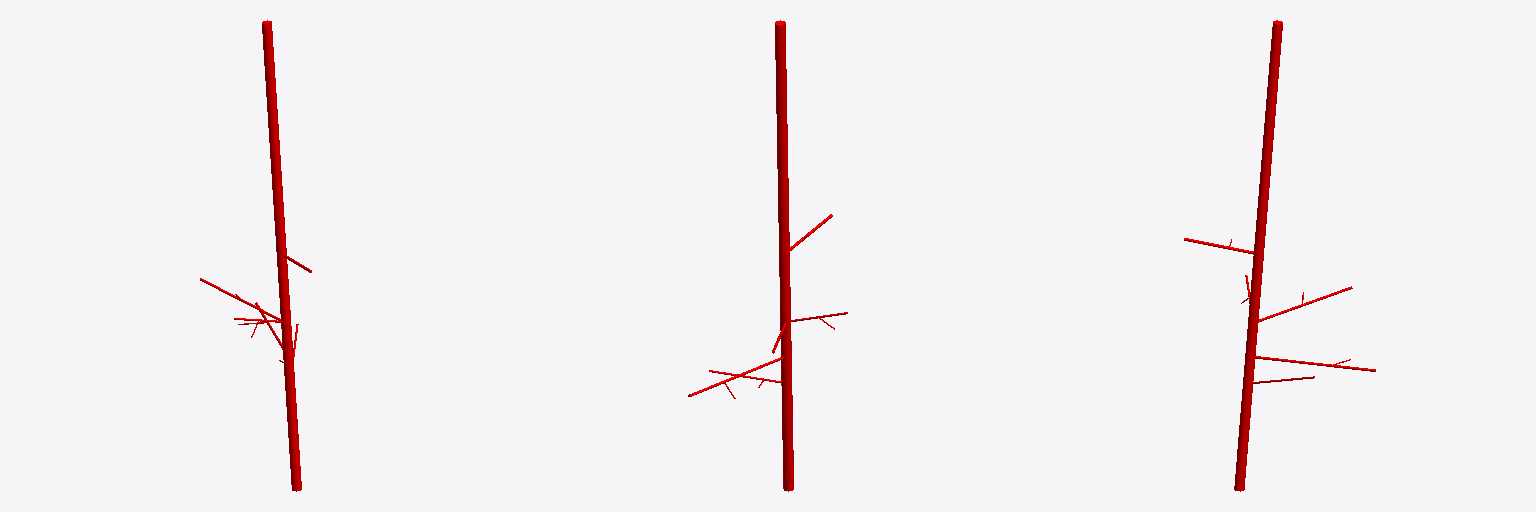
robot.urdf — tree_90.urdf:
<?xml version='1.0' encoding='UTF-8'?>
<robot name="tree_90.urdf">
  <link name="branch_0">
    <inertial>
      <origin xyz="0.0 0.0 0.0" rpy="0.0 -0.0 0.0"/>
      <mass value="0.1"/>
      <inertia ixx="0.001" ixy="0.0" ixz="0.0" iyy="0.001" iyz="0.0" izz="0.001"/>
    </inertial>
    <visual name="branch_0_visual">
      <geometry>
        <cylinder radius="0.07705784373232848" length="7.617566945547848"/>
      </geometry>
      <material name="semantic_material"/>
      <origin xyz="-0.09592882409770756 0.2882803042443073 3.796646371387232" rpy="6.938893903907228e-18 0.07985364420203571 1.892032885081165"/>
    </visual>
    <collision name="branch_0_collision">
      <geometry>
        <cylinder radius="0.07705784373232848" length="7.617566945547848"/>
      </geometry>
      <origin xyz="-0.09592882409770756 0.2882803042443073 3.796646371387232" rpy="6.938893903907228e-18 0.07985364420203571 1.892032885081165"/>
    </collision>
  </link>
  <link name="branch_1">
    <inertial>
      <origin xyz="0.0 0.0 0.0" rpy="0.0 -0.0 0.0"/>
      <mass value="0.1"/>
      <inertia ixx="0.001" ixy="0.0" ixz="0.0" iyy="0.001" iyz="0.0" izz="0.001"/>
    </inertial>
    <visual name="branch_1_visual">
      <geometry>
        <cylinder radius="0.016011054767605396" length="1.0091474311600492"/>
      </geometry>
      <material name="semantic_material"/>
      <origin xyz="0.0 0.0 0.0" rpy="0.0 -0.0 0.0"/>
    </visual>
    <collision name="branch_1_collision">
      <geometry>
        <cylinder radius="0.016011054767605396" length="1.0091474311600492"/>
      </geometry>
      <origin xyz="0.0 0.0 0.0" rpy="0.0 -0.0 0.0"/>
    </collision>
  </link>
  <link name="branch_2">
    <inertial>
      <origin xyz="0.0 0.0 0.0" rpy="0.0 -0.0 0.0"/>
      <mass value="0.1"/>
      <inertia ixx="0.001" ixy="0.0" ixz="0.0" iyy="0.001" iyz="0.0" izz="0.001"/>
    </inertial>
    <visual name="branch_2_visual">
      <geometry>
        <cylinder radius="0.01" length="0.29990771913010134"/>
      </geometry>
      <material name="semantic_material"/>
      <origin xyz="0.0 0.0 0.0" rpy="0.0 -0.0 0.0"/>
    </visual>
    <collision name="branch_2_collision">
      <geometry>
        <cylinder radius="0.01" length="0.29990771913010134"/>
      </geometry>
      <origin xyz="0.0 0.0 0.0" rpy="0.0 -0.0 0.0"/>
    </collision>
  </link>
  <link name="branch_3">
    <inertial>
      <origin xyz="0.0 0.0 0.0" rpy="0.0 -0.0 0.0"/>
      <mass value="0.1"/>
      <inertia ixx="0.001" ixy="0.0" ixz="0.0" iyy="0.001" iyz="0.0" izz="0.001"/>
    </inertial>
    <visual name="branch_3_visual">
      <geometry>
        <cylinder radius="0.02303562937007963" length="1.134028168131635"/>
      </geometry>
      <material name="semantic_material"/>
      <origin xyz="0.0 0.0 0.0" rpy="0.0 -0.0 0.0"/>
    </visual>
    <collision name="branch_3_collision">
      <geometry>
        <cylinder radius="0.02303562937007963" length="1.134028168131635"/>
      </geometry>
      <origin xyz="0.0 0.0 0.0" rpy="0.0 -0.0 0.0"/>
    </collision>
  </link>
  <link name="branch_4">
    <inertial>
      <origin xyz="0.0 0.0 0.0" rpy="0.0 -0.0 0.0"/>
      <mass value="0.1"/>
      <inertia ixx="0.001" ixy="0.0" ixz="0.0" iyy="0.001" iyz="0.0" izz="0.001"/>
    </inertial>
    <visual name="branch_4_visual">
      <geometry>
        <cylinder radius="0.01" length="0.14504044287743303"/>
      </geometry>
      <material name="semantic_material"/>
      <origin xyz="0.0 0.0 0.0" rpy="0.0 -0.0 0.0"/>
    </visual>
    <collision name="branch_4_collision">
      <geometry>
        <cylinder radius="0.01" length="0.14504044287743303"/>
      </geometry>
      <origin xyz="0.0 0.0 0.0" rpy="0.0 -0.0 0.0"/>
    </collision>
  </link>
  <link name="branch_5">
    <inertial>
      <origin xyz="0.0 0.0 0.0" rpy="0.0 -0.0 0.0"/>
      <mass value="0.1"/>
      <inertia ixx="0.001" ixy="0.0" ixz="0.0" iyy="0.001" iyz="0.0" izz="0.001"/>
    </inertial>
    <visual name="branch_5_visual">
      <geometry>
        <cylinder radius="0.015600764764193639" length="1.2830101981991109"/>
      </geometry>
      <material name="semantic_material"/>
      <origin xyz="0.0 0.0 0.0" rpy="0.0 -0.0 0.0"/>
    </visual>
    <collision name="branch_5_collision">
      <geometry>
        <cylinder radius="0.015600764764193639" length="1.2830101981991109"/>
      </geometry>
      <origin xyz="0.0 0.0 0.0" rpy="0.0 -0.0 0.0"/>
    </collision>
  </link>
  <link name="branch_6">
    <inertial>
      <origin xyz="0.0 0.0 0.0" rpy="0.0 -0.0 0.0"/>
      <mass value="0.1"/>
      <inertia ixx="0.001" ixy="0.0" ixz="0.0" iyy="0.001" iyz="0.0" izz="0.001"/>
    </inertial>
    <visual name="branch_6_visual">
      <geometry>
        <cylinder radius="0.01" length="0.2829312294041939"/>
      </geometry>
      <material name="semantic_material"/>
      <origin xyz="0.0 0.0 0.0" rpy="0.0 -0.0 0.0"/>
    </visual>
    <collision name="branch_6_collision">
      <geometry>
        <cylinder radius="0.01" length="0.2829312294041939"/>
      </geometry>
      <origin xyz="0.0 0.0 0.0" rpy="0.0 -0.0 0.0"/>
    </collision>
  </link>
  <link name="branch_7">
    <inertial>
      <origin xyz="0.0 0.0 0.0" rpy="0.0 -0.0 0.0"/>
      <mass value="0.1"/>
      <inertia ixx="0.001" ixy="0.0" ixz="0.0" iyy="0.001" iyz="0.0" izz="0.001"/>
    </inertial>
    <visual name="branch_7_visual">
      <geometry>
        <cylinder radius="0.02019765870299816" length="1.9382847404582078"/>
      </geometry>
      <material name="semantic_material"/>
      <origin xyz="0.0 0.0 0.0" rpy="0.0 -0.0 0.0"/>
    </visual>
    <collision name="branch_7_collision">
      <geometry>
        <cylinder radius="0.02019765870299816" length="1.9382847404582078"/>
      </geometry>
      <origin xyz="0.0 0.0 0.0" rpy="0.0 -0.0 0.0"/>
    </collision>
  </link>
  <link name="branch_8">
    <inertial>
      <origin xyz="0.0 0.0 0.0" rpy="0.0 -0.0 0.0"/>
      <mass value="0.1"/>
      <inertia ixx="0.001" ixy="0.0" ixz="0.0" iyy="0.001" iyz="0.0" izz="0.001"/>
    </inertial>
    <visual name="branch_8_visual">
      <geometry>
        <cylinder radius="0.01" length="0.4631951591894071"/>
      </geometry>
      <material name="semantic_material"/>
      <origin xyz="0.0 0.0 0.0" rpy="0.0 -0.0 0.0"/>
    </visual>
    <collision name="branch_8_collision">
      <geometry>
        <cylinder radius="0.01" length="0.4631951591894071"/>
      </geometry>
      <origin xyz="0.0 0.0 0.0" rpy="0.0 -0.0 0.0"/>
    </collision>
  </link>
  <link name="branch_9">
    <inertial>
      <origin xyz="0.0 0.0 0.0" rpy="0.0 -0.0 0.0"/>
      <mass value="0.1"/>
      <inertia ixx="0.001" ixy="0.0" ixz="0.0" iyy="0.001" iyz="0.0" izz="0.001"/>
    </inertial>
    <visual name="branch_9_visual">
      <geometry>
        <cylinder radius="0.0203167366854258" length="1.635071868862551"/>
      </geometry>
      <material name="semantic_material"/>
      <origin xyz="0.0 0.0 0.0" rpy="0.0 -0.0 0.0"/>
    </visual>
    <collision name="branch_9_collision">
      <geometry>
        <cylinder radius="0.0203167366854258" length="1.635071868862551"/>
      </geometry>
      <origin xyz="0.0 0.0 0.0" rpy="0.0 -0.0 0.0"/>
    </collision>
  </link>
  <link name="branch_10">
    <inertial>
      <origin xyz="0.0 0.0 0.0" rpy="0.0 -0.0 0.0"/>
      <mass value="0.1"/>
      <inertia ixx="0.001" ixy="0.0" ixz="0.0" iyy="0.001" iyz="0.0" izz="0.001"/>
    </inertial>
    <visual name="branch_10_visual">
      <geometry>
        <cylinder radius="0.01" length="0.20048560154406242"/>
      </geometry>
      <material name="semantic_material"/>
      <origin xyz="0.0 0.0 0.0" rpy="0.0 -0.0 0.0"/>
    </visual>
    <collision name="branch_10_collision">
      <geometry>
        <cylinder radius="0.01" length="0.20048560154406242"/>
      </geometry>
      <origin xyz="0.0 0.0 0.0" rpy="0.0 -0.0 0.0"/>
    </collision>
  </link>
  <joint name="joint_0_1" type="fixed">
    <parent link="branch_0"/>
    <child link="branch_1"/>
    <axis xyz="1. 0. 0."/>
    <origin xyz="-0.5447454594060922 0.1560115303461322 2.8804777588464" rpy="0.2428746738642773 1.2389300667388956 -2.7794113504062627"/>
  </joint>
  <joint name="joint_0_3" type="fixed">
    <parent link="branch_0"/>
    <child link="branch_3"/>
    <axis xyz="1. 0. 0."/>
    <origin xyz="-0.16242891957109945 -0.2648721870201112 3.9199169437554344" rpy="0.20182603700408447 1.4024308791827758 -1.4839582418418096"/>
  </joint>
  <joint name="joint_0_5" type="fixed">
    <parent link="branch_0"/>
    <child link="branch_5"/>
    <axis xyz="1. 0. 0."/>
    <origin xyz="0.3059803551648241 0.6245694306446489 1.9352984772099822" rpy="-0.1942271914756938 1.2249643907178989 0.7487916620446987"/>
  </joint>
  <joint name="joint_0_7" type="fixed">
    <parent link="branch_0"/>
    <child link="branch_7"/>
    <axis xyz="1. 0. 0."/>
    <origin xyz="0.20477067357069156 1.0977272819081998 2.1640592913137384" rpy="-1.4555685412624226 1.5258494001136642 -0.15577157223288088"/>
  </joint>
  <joint name="joint_0_9" type="fixed">
    <parent link="branch_0"/>
    <child link="branch_9"/>
    <axis xyz="1. 0. 0."/>
    <origin xyz="-0.39025914430123304 0.9432100327651586 2.848122853894573" rpy="0.041814072970022965 1.3950380790008965 2.024671999269318"/>
  </joint>
  <joint name="joint_1_2" type="fixed">
    <parent link="branch_0"/>
    <child link="branch_2"/>
    <axis xyz="1. 0. 0."/>
    <origin xyz="-0.6726982271518948 0.0914330637596489 2.795416569156878" rpy="2.623089673272636 0.7539685294175931 -0.13696519845494107"/>
  </joint>
  <joint name="joint_3_4" type="fixed">
    <parent link="branch_0"/>
    <child link="branch_4"/>
    <axis xyz="1. 0. 0."/>
    <origin xyz="-0.2017296498866144 -0.13299173363417946 3.946731775909744" rpy="-0.8736572081209245 0.2335221732645392 1.3708447572709173"/>
  </joint>
  <joint name="joint_5_6" type="fixed">
    <parent link="branch_0"/>
    <child link="branch_6"/>
    <axis xyz="1. 0. 0."/>
    <origin xyz="0.12671612098265644 0.5601243162668054 1.8488719520483206" rpy="1.5676045265939287 0.4269372532016585 -2.878081698691795"/>
  </joint>
  <joint name="joint_7_8" type="fixed">
    <parent link="branch_0"/>
    <child link="branch_8"/>
    <axis xyz="1. 0. 0."/>
    <origin xyz="0.10190863036131038 1.5091620740422789 2.131850983479838" rpy="1.7168817229432707 0.06962695067187372 -2.2516953797401076"/>
  </joint>
  <joint name="joint_9_10" type="fixed">
    <parent link="branch_0"/>
    <child link="branch_10"/>
    <axis xyz="1. 0. 0."/>
    <origin xyz="-0.4578659307712732 0.947336925459577 2.9200898943895255" rpy="0.744906379038443 -0.17871434285407736 -1.481428090752656"/>
  </joint>
  <material name="semantic_material">
    <color rgba="1. 0. 0. 1."/>
  </material>
</robot>

--- Render facts (derived) ---
3 views of the same robot in one strip: view 1: azimuth 30°, elevation 25°; view 2: azimuth 150°, elevation 25°; view 3: azimuth 270°, elevation 25° (orthographic).
Model tree_90.urdf with 11 links and 10 joints (10 fixed), rooted at branch_0, posed all joints at 0.
Links seen in each view (by area): view 1: branch_0; view 2: branch_0; view 3: branch_0.
Link boxes in pixels (x1=…): branch_0: x1=262, y1=20, x2=301, y2=491; branch_0: x1=775, y1=20, x2=793, y2=491; branch_0: x1=1234, y1=20, x2=1282, y2=491.
Size in the robot's own frame: 1.69 by 2.86 by 7.61 metres.
Geometry: primitives only (box / cylinder / sphere), no mesh files.
